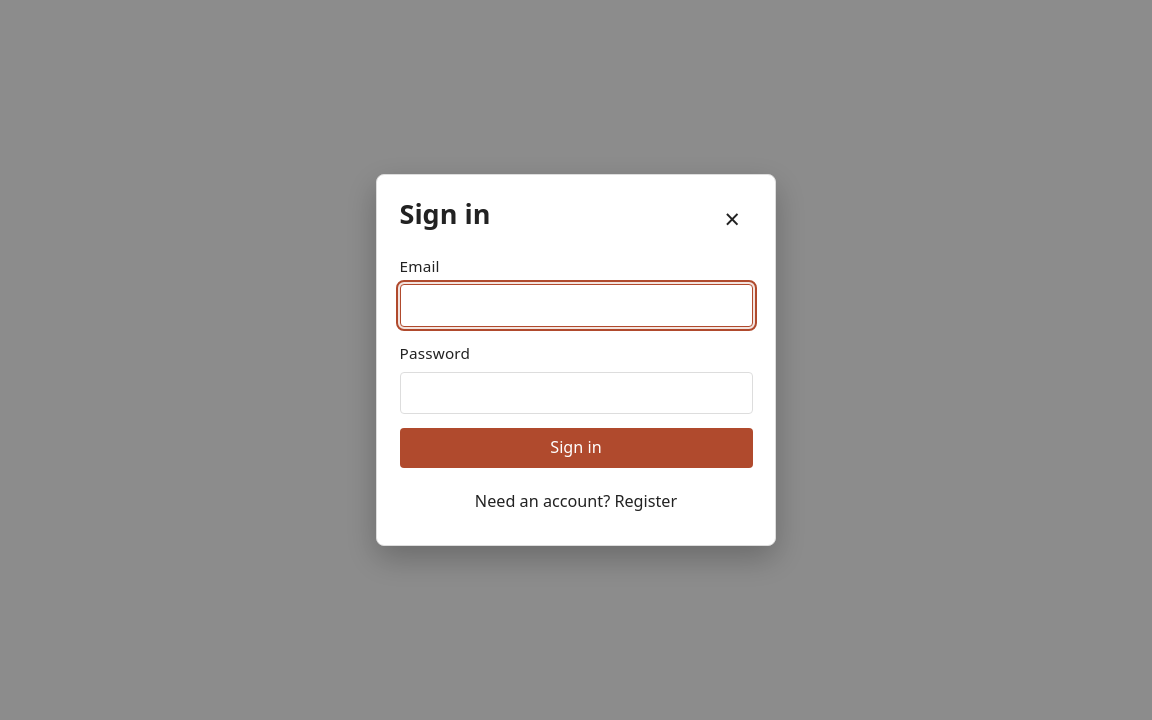
Test case: AuthDialog › keeps the dialog open and maps a 401 response
Type "a@example.com" into the field labelled "Email" at (576, 305), box [400,284,752,327]
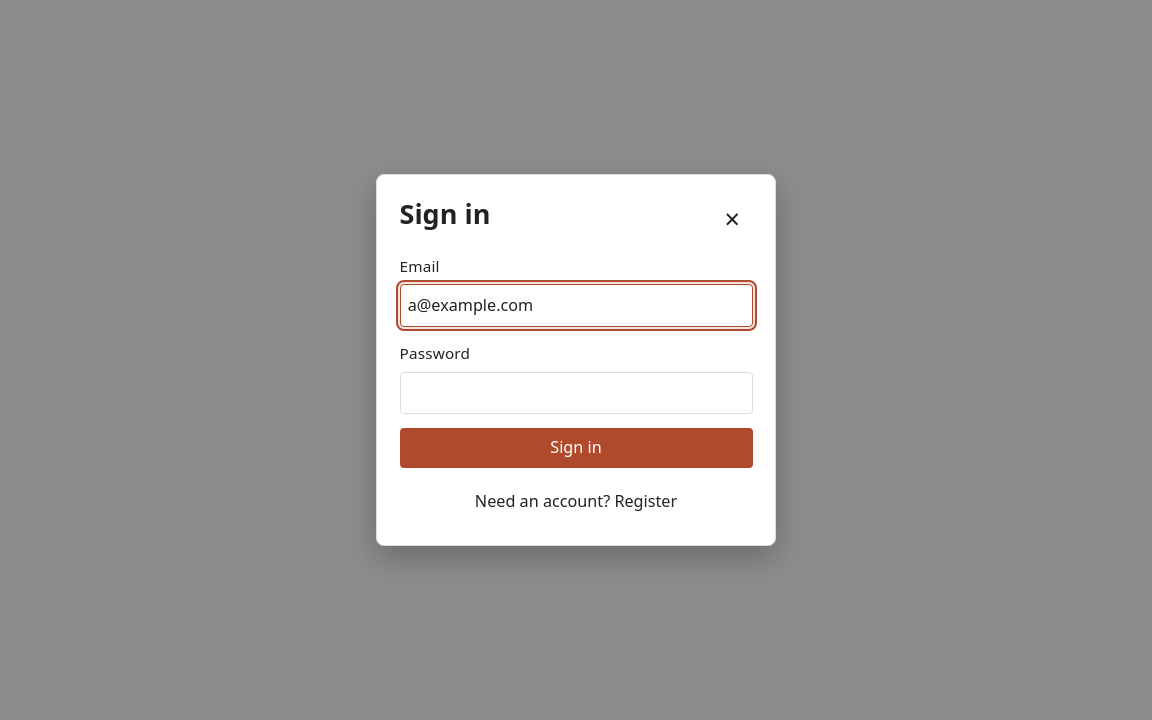
Type "password1" into the password field labelled "Password" at (576, 393), box [400,372,752,414]
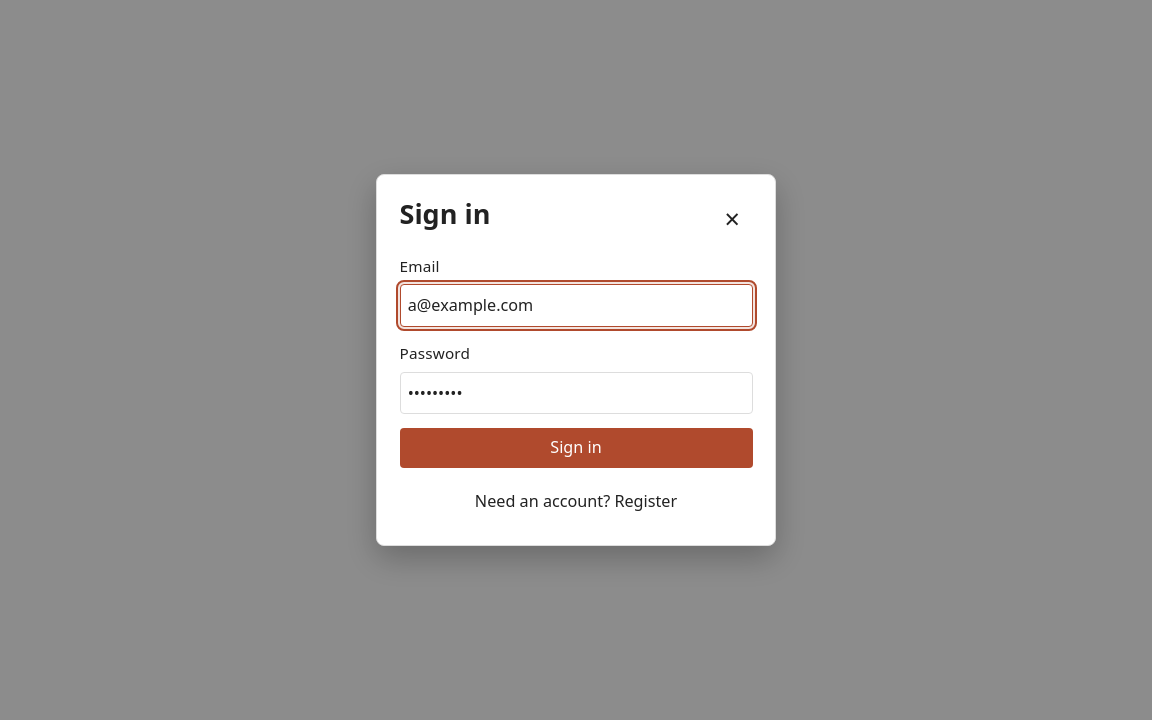
Submit the dialog, box [376,174,776,546]
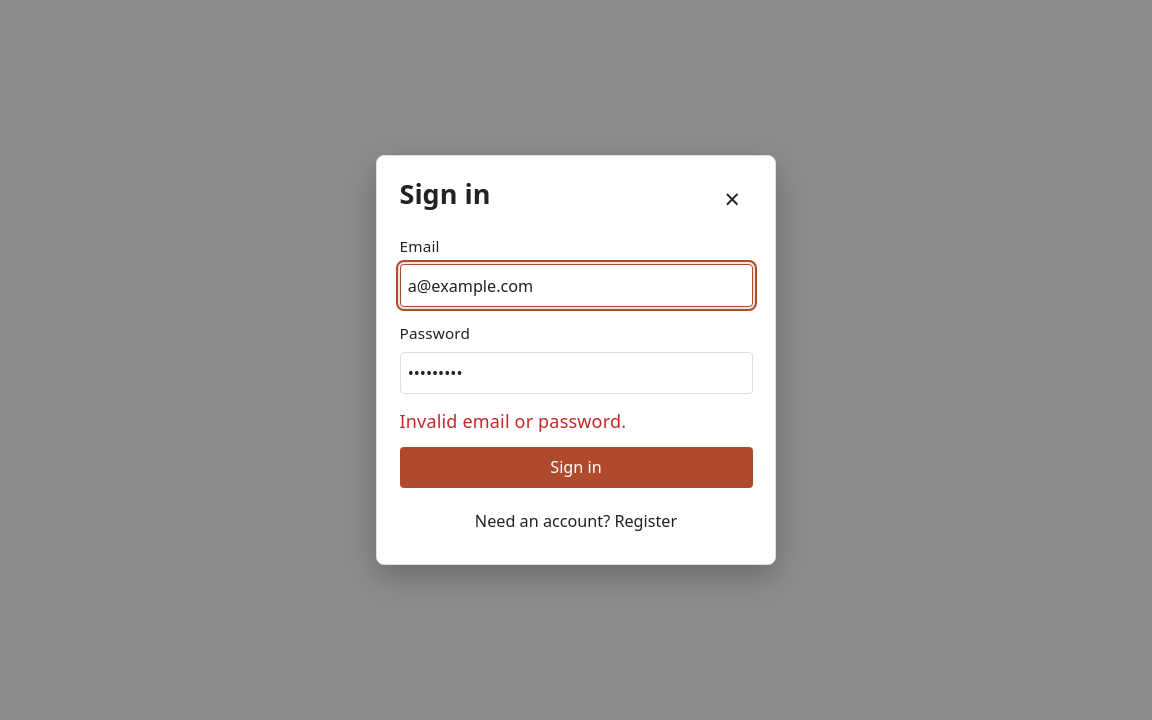
Expected: the message reads "Invalid email or password.", [400,409,626,433]
